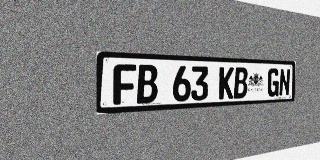3: (191, 66, 208, 101)
6: (173, 65, 191, 102)
B: (137, 64, 158, 104), (233, 67, 248, 99)
F: (113, 64, 136, 105)
G: (267, 68, 279, 97)
K: (219, 67, 234, 99)
N: (279, 68, 290, 96)
